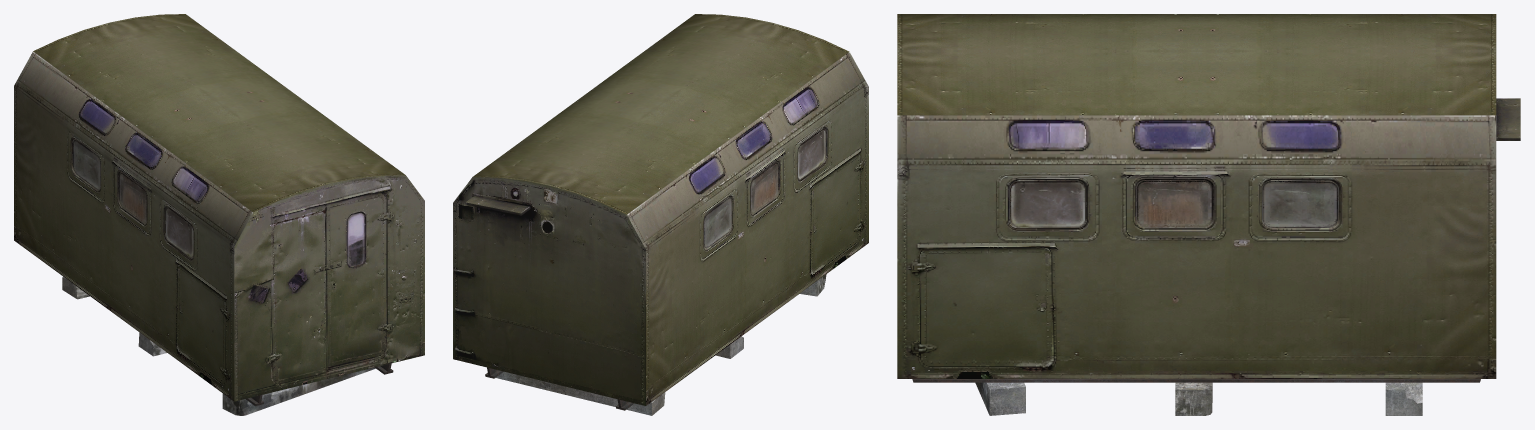
Rendered from vagon.obj.
3 renders of one model, left to right at view 1: azimuth 30°, elevation 25°; view 2: azimuth 150°, elevation 25°; view 3: azimuth 270°, elevation 25°, orthographic. The views are drawn at different scales.
Parts seen in each view (by area): view 1: 1, 0, 3; view 2: 1, 0, 3; view 3: 1, 0, 3, 4.
Part boxes in pixels (x1,y1,x2,y2): 1: (14,14,424,401); 0: (73,139,364,266); 3: (62,276,375,415); 1: (453,14,868,405); 0: (704,128,825,248); 3: (496,274,826,415); 1: (897,14,1520,378); 0: (1010,180,1337,227); 3: (975,382,1422,415); 4: (912,379,1480,382).
Size of the model in its own units: 2.9 by 3.33 by 6.03.
